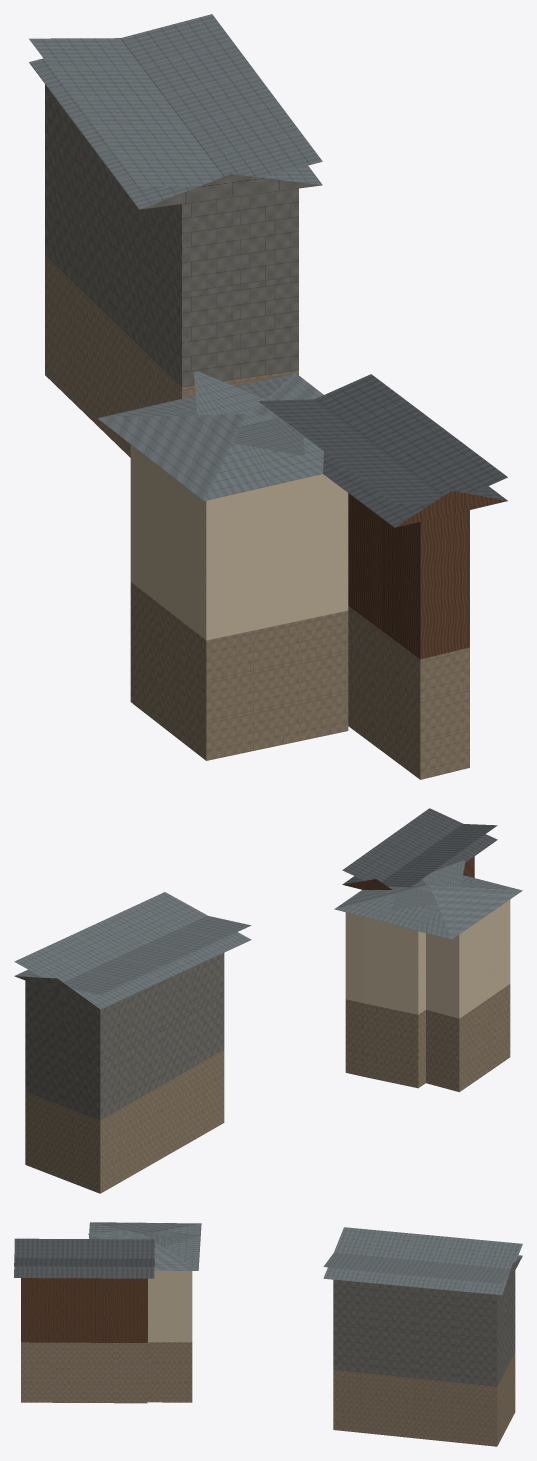
The model's file is bld_c10_26_402.gltf.
3 views of the same model, one above another, from view 1: azimuth 30°, elevation 25°; view 2: azimuth 150°, elevation 25°; view 3: azimuth 270°, elevation 25° (orthographic). The views are drawn at different scales.
Visible parts, largest first — view 1: bld_c10_26_402; view 2: bld_c10_26_402; view 3: bld_c10_26_402.
Boxes of the visible parts, left/top/right/bottom form: bld_c10_26_402: left=29, top=14, right=507, bottom=779; bld_c10_26_402: left=14, top=808, right=522, bottom=1193; bld_c10_26_402: left=14, top=1222, right=522, bottom=1446.
Bounding box in the file's own units: 18.66 × 14.9 × 39.07.
8 materials, 8 textured.
